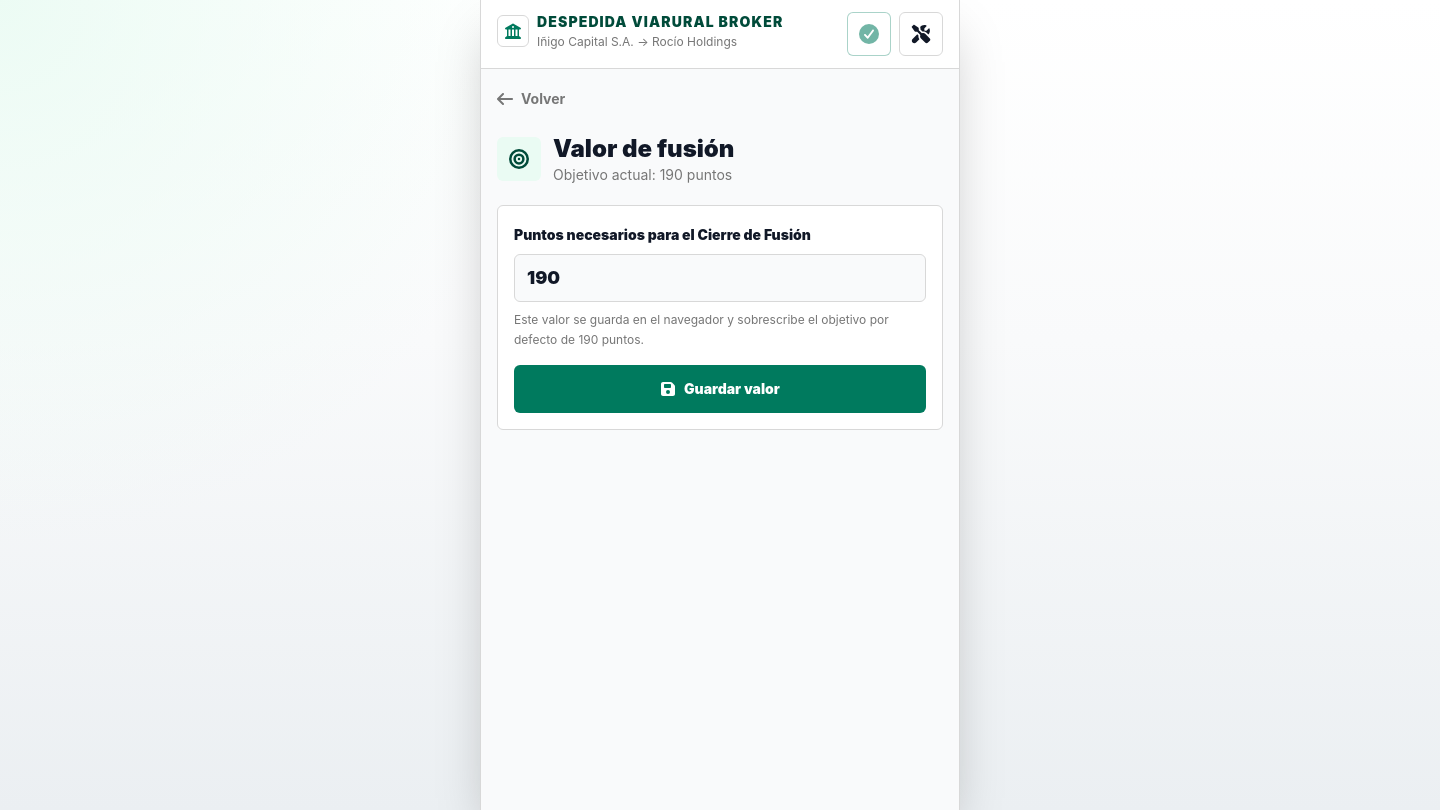
Test: MergerTargetSettingsPage › stores a custom merger target in localStorage
Replace the text in the number field labelled "Puntos necesarios para el Cierre de Fusión" with "210" at (720, 278), box x1=514 y1=254 x2=926 y2=302
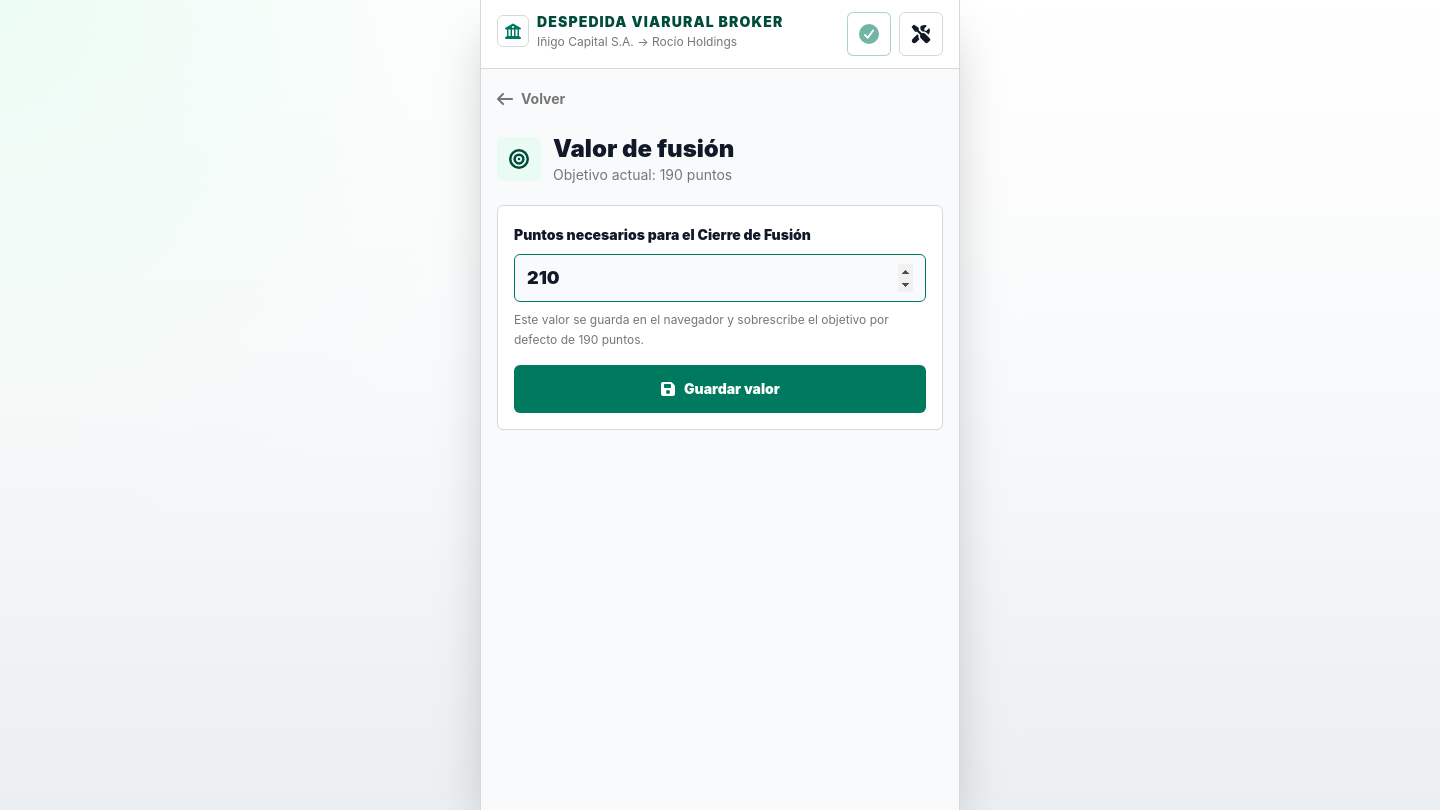
Click the button "Guardar valor" at (720, 389), box x1=514 y1=365 x2=926 y2=413
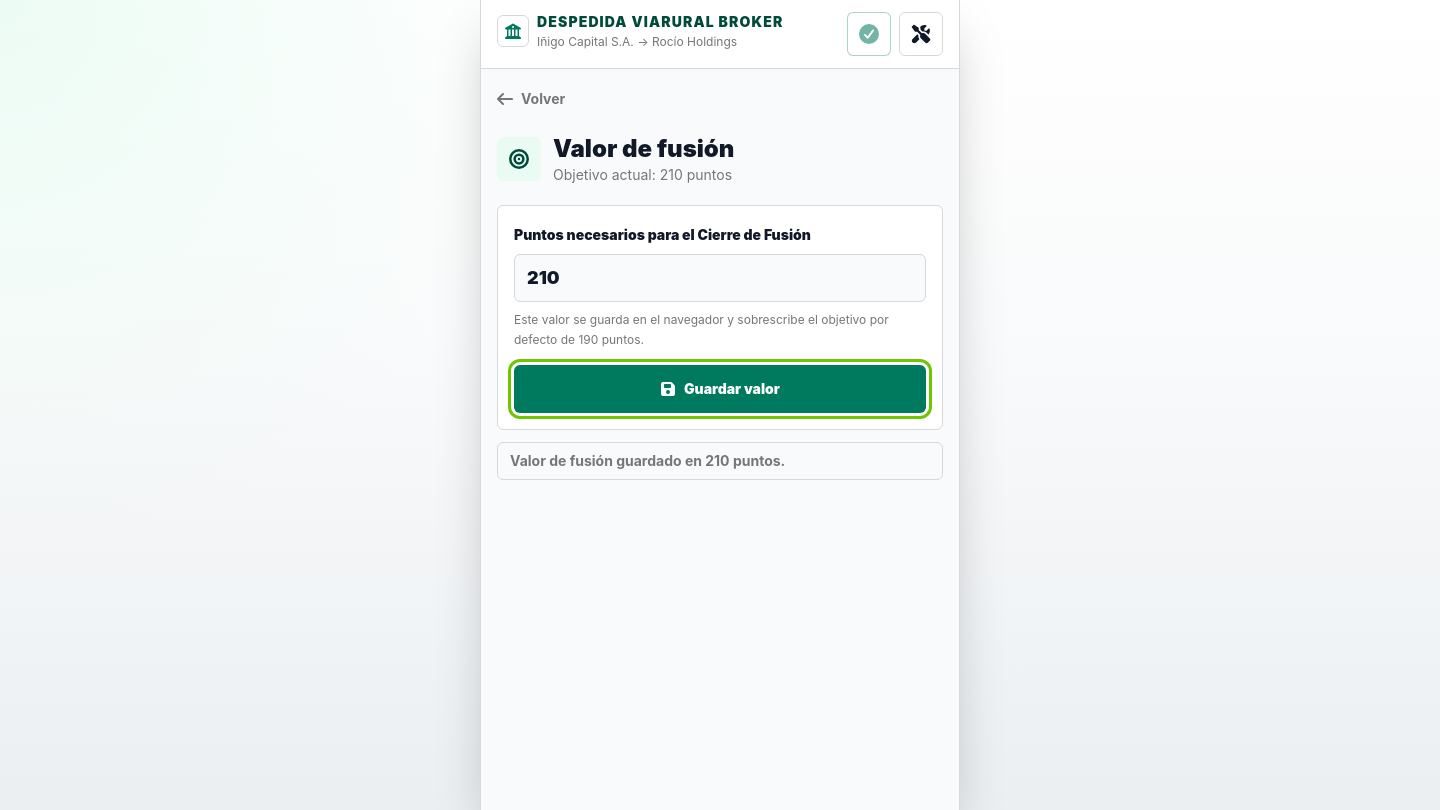
Now the text "Valor de fusión guardado en 210 puntos." is shown, box x1=497 y1=442 x2=943 y2=480
